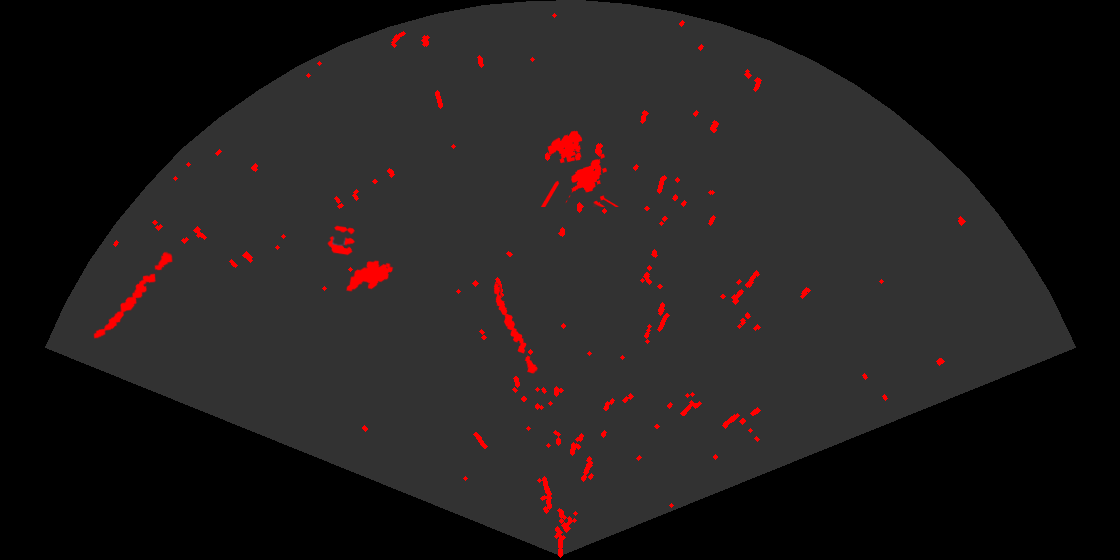AUV: (345, 259, 395, 293)
ball: (326, 224, 357, 257)
cage: (539, 129, 620, 207)
chain: (92, 250, 174, 340), (492, 282, 539, 375)
